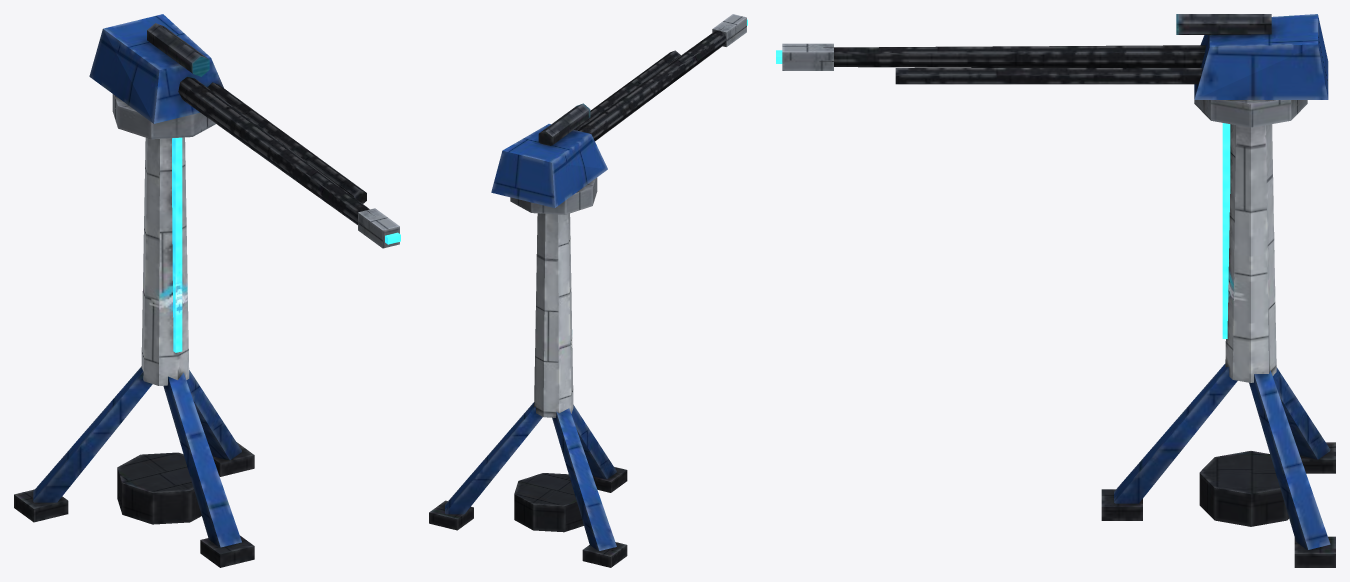
File: u_spire2_w.glb
3 renders of one model, left to right at view 1: azimuth 30°, elevation 25°; view 2: azimuth 150°, elevation 25°; view 3: azimuth 270°, elevation 25°, orthographic. The views are drawn at different scales.
Parts seen in each view (by area): view 1: u_spire2_w; view 2: u_spire2_w; view 3: u_spire2_w.
Boxes of the visible parts, x1,y1,x2,y2 form: u_spire2_w: [14, 14, 400, 567]; u_spire2_w: [429, 14, 747, 567]; u_spire2_w: [776, 14, 1335, 567].
Size of the model in its own units: 1.13 by 2.35 by 2.39.
1 material, 1 textured.
